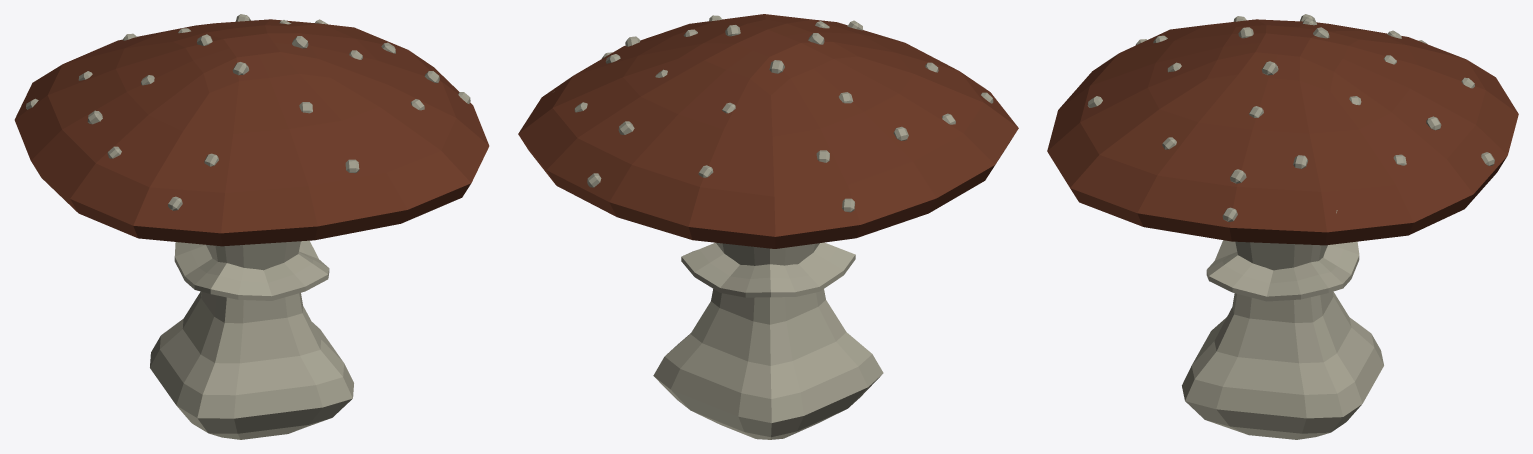
Rendered from mushroom_4.gltf.
3 renders of one model, left to right at view 1: azimuth 30°, elevation 25°; view 2: azimuth 150°, elevation 25°; view 3: azimuth 270°, elevation 25°, orthographic.
Visible parts, largest first — view 1: mushroom_4; view 2: mushroom_4; view 3: mushroom_4.
Part boxes in pixels (x1,y1,x2,y2): mushroom_4: [14, 14, 489, 439]; mushroom_4: [518, 14, 1018, 439]; mushroom_4: [1047, 14, 1518, 439].
Size of the model in its own units: 0.4451 by 0.3995 by 0.4451.
1 material, 1 textured.
